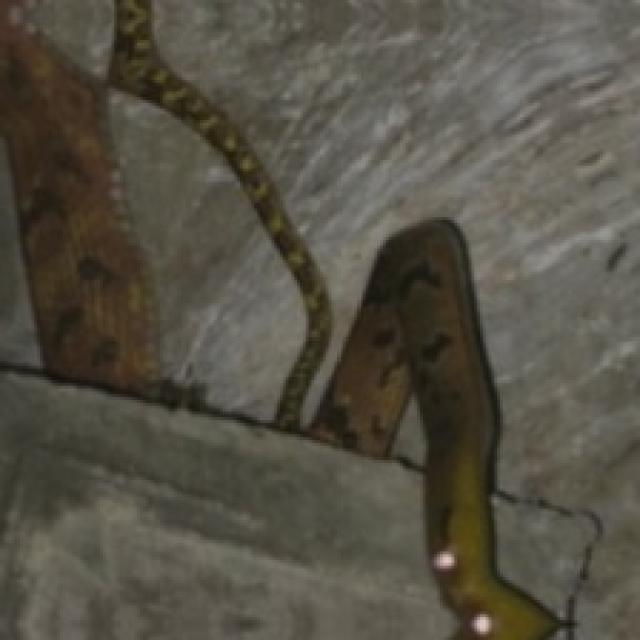dog-toothed cat snake: (309, 220, 571, 637), (311, 220, 571, 637), (109, 0, 329, 429), (111, 0, 329, 423), (0, 0, 160, 394)
